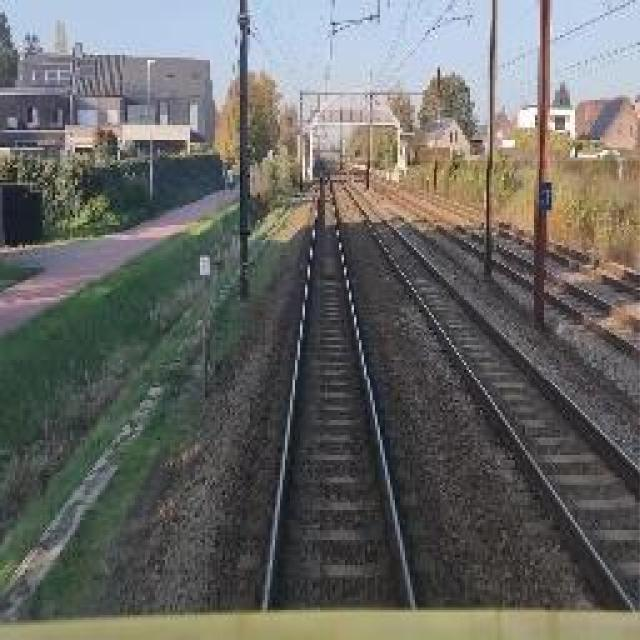rail: (322, 162, 640, 613), (218, 167, 446, 610), (336, 170, 640, 377)
